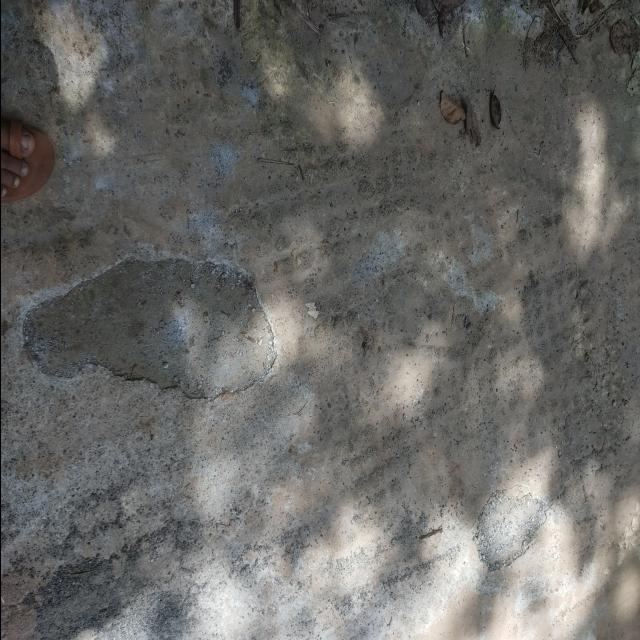potholes: (13, 252, 277, 409)
